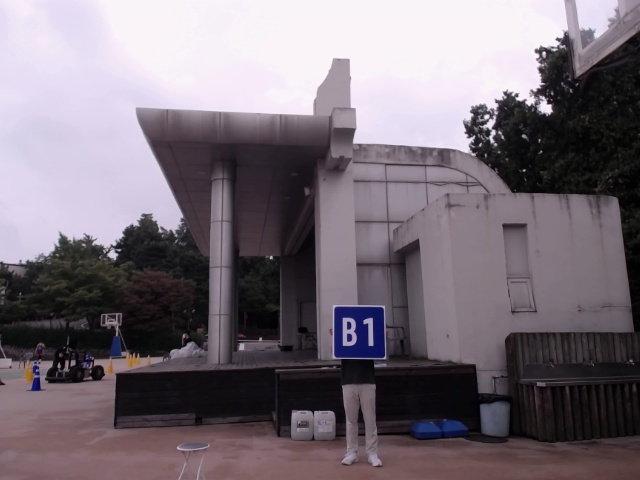delivery_b1: (333, 305, 386, 359)
